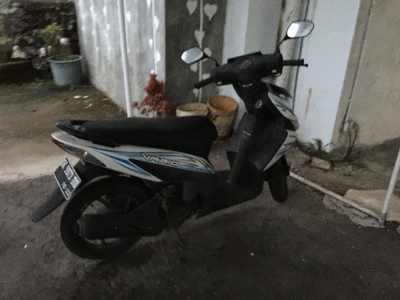moto: (38, 43, 309, 267)
